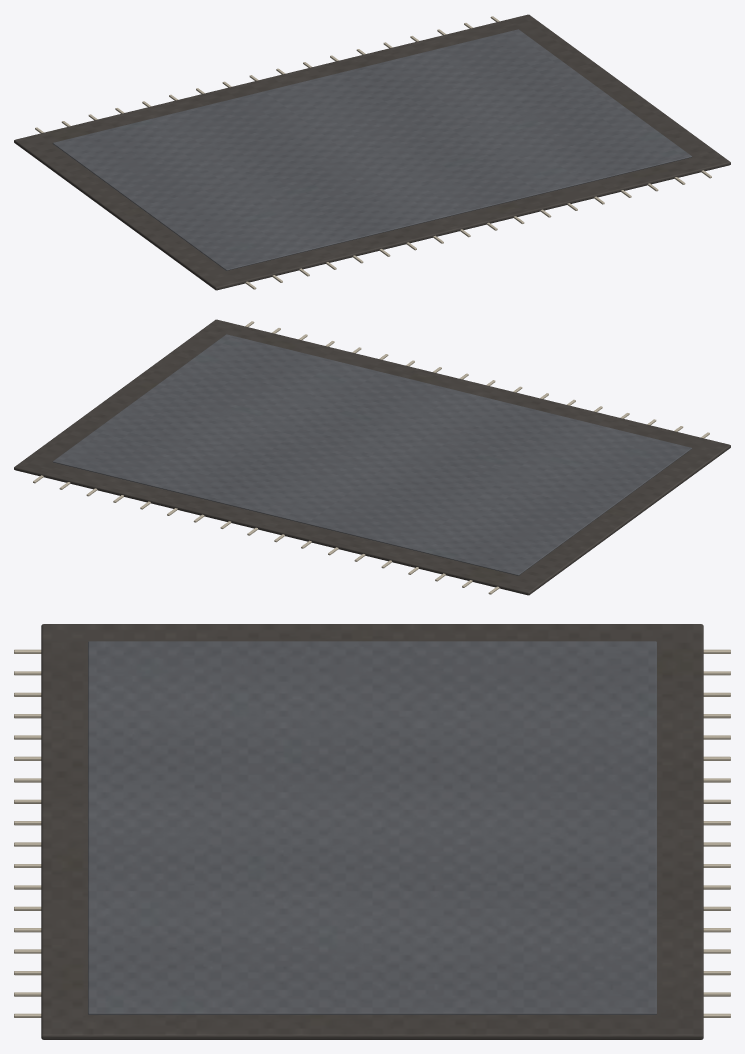
Rendered from razoredge-modern-rug.glb.
3 views of the same model, one above another, from view 1: azimuth 30°, elevation 25°; view 2: azimuth 150°, elevation 25°; view 3: azimuth 270°, elevation 25° (orthographic). The views are drawn at different scales.
Visible parts, largest first — view 1: rug_border, rug; view 2: rug_border, rug; view 3: rug_border, rug.
Part boxes in pixels (<box>): rug_border: <box>52,29,691,270</box>; rug: <box>14,14,730,290</box>; rug_border: <box>53,334,692,575</box>; rug: <box>14,319,730,595</box>; rug_border: <box>88,641,656,1014</box>; rug: <box>41,624,703,1039</box>.
Bounding box in the file's own units: 2.5 × 0.022 × 1.84.
3 materials, 3 textured.
